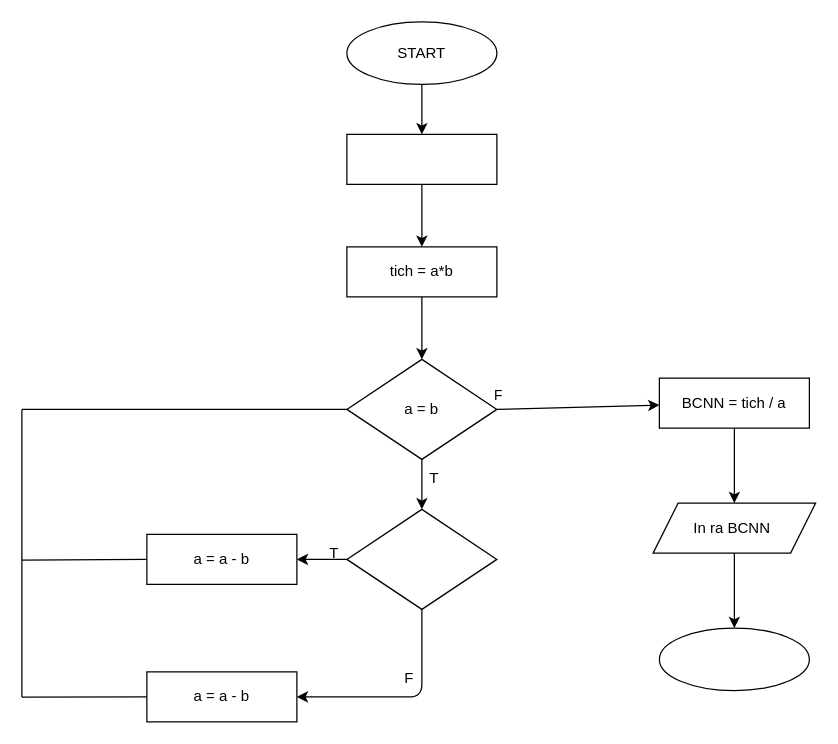
Image size: 838x744. Some labels were removed from this diagram. The box of each missing label's shape, as (x1, y1, x2, y2) in pixels:
a > b: (346, 508, 497, 609)
a,b > 0: (346, 133, 497, 184)
END: (658, 627, 809, 691)
